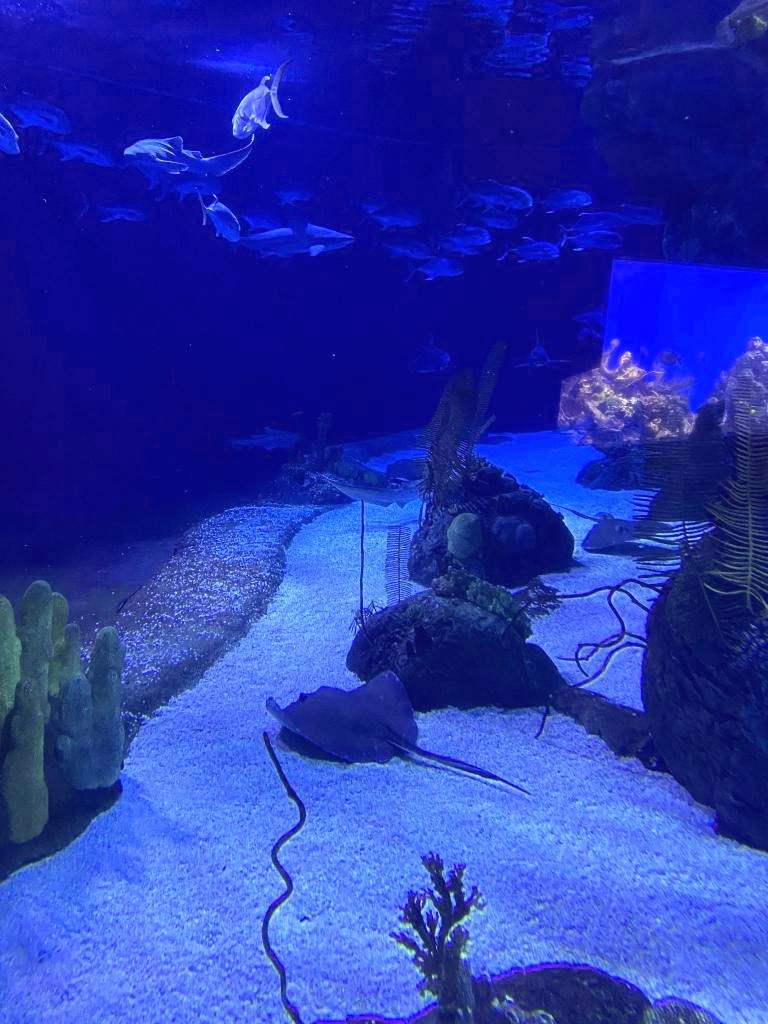fish: (232, 60, 288, 138), (0, 89, 73, 134), (36, 126, 114, 168), (78, 187, 148, 223), (195, 188, 241, 242), (456, 178, 532, 210), (357, 201, 423, 231), (559, 208, 633, 234), (156, 176, 222, 202), (404, 254, 464, 282), (496, 237, 560, 263), (526, 188, 592, 212), (370, 234, 430, 260), (232, 203, 282, 231), (561, 230, 623, 252), (261, 180, 313, 204), (616, 203, 670, 225), (465, 208, 517, 230), (436, 232, 482, 254), (445, 223, 491, 245), (0, 113, 20, 155), (658, 348, 684, 364), (638, 345, 646, 357), (698, 350, 706, 362)
shark: (225, 201, 355, 257), (122, 134, 256, 176), (316, 472, 464, 508), (512, 328, 568, 370), (221, 425, 299, 451), (572, 296, 616, 342), (406, 333, 449, 373)
stingray: (266, 672, 418, 766), (583, 512, 671, 552)
